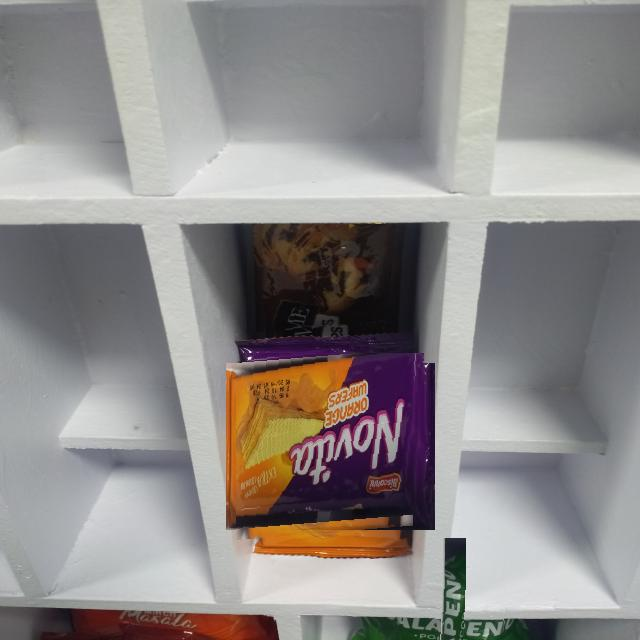Plastic: (236, 353, 425, 541), (247, 224, 397, 334), (403, 577, 506, 640), (64, 611, 275, 640)
